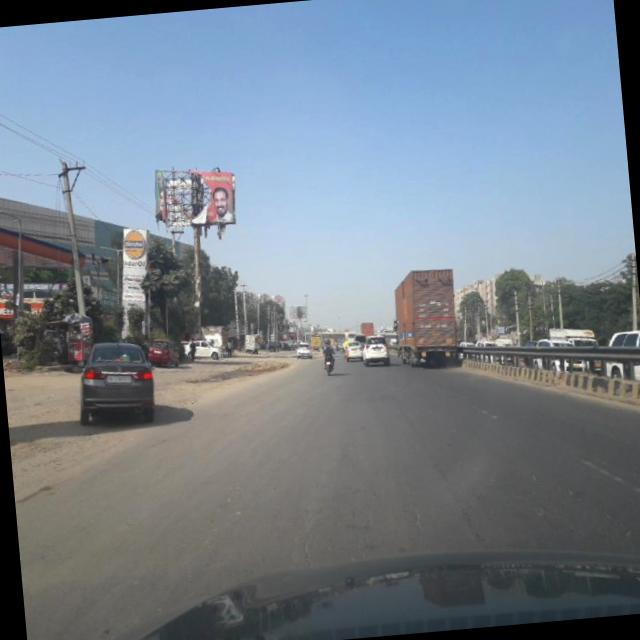crack: (447, 395, 640, 558), (236, 472, 438, 570)
